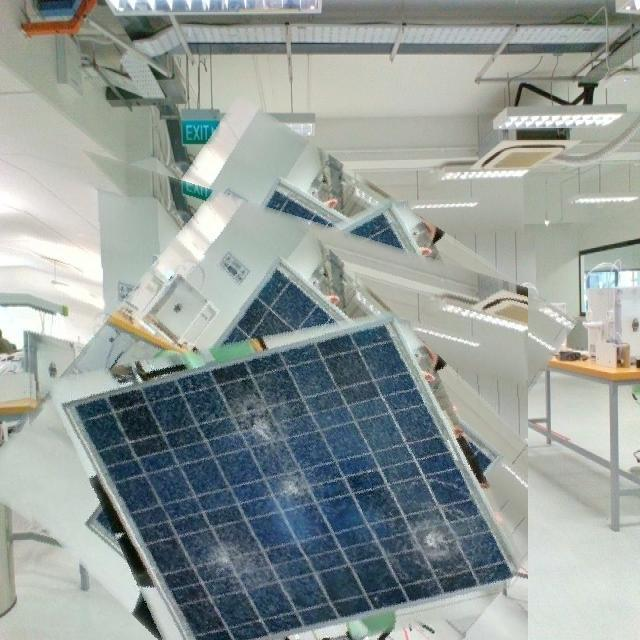Anomaly Solar Panel: (70, 321, 519, 639)
Structural Damage: (219, 380, 339, 522), (378, 476, 496, 593), (176, 523, 273, 597)
